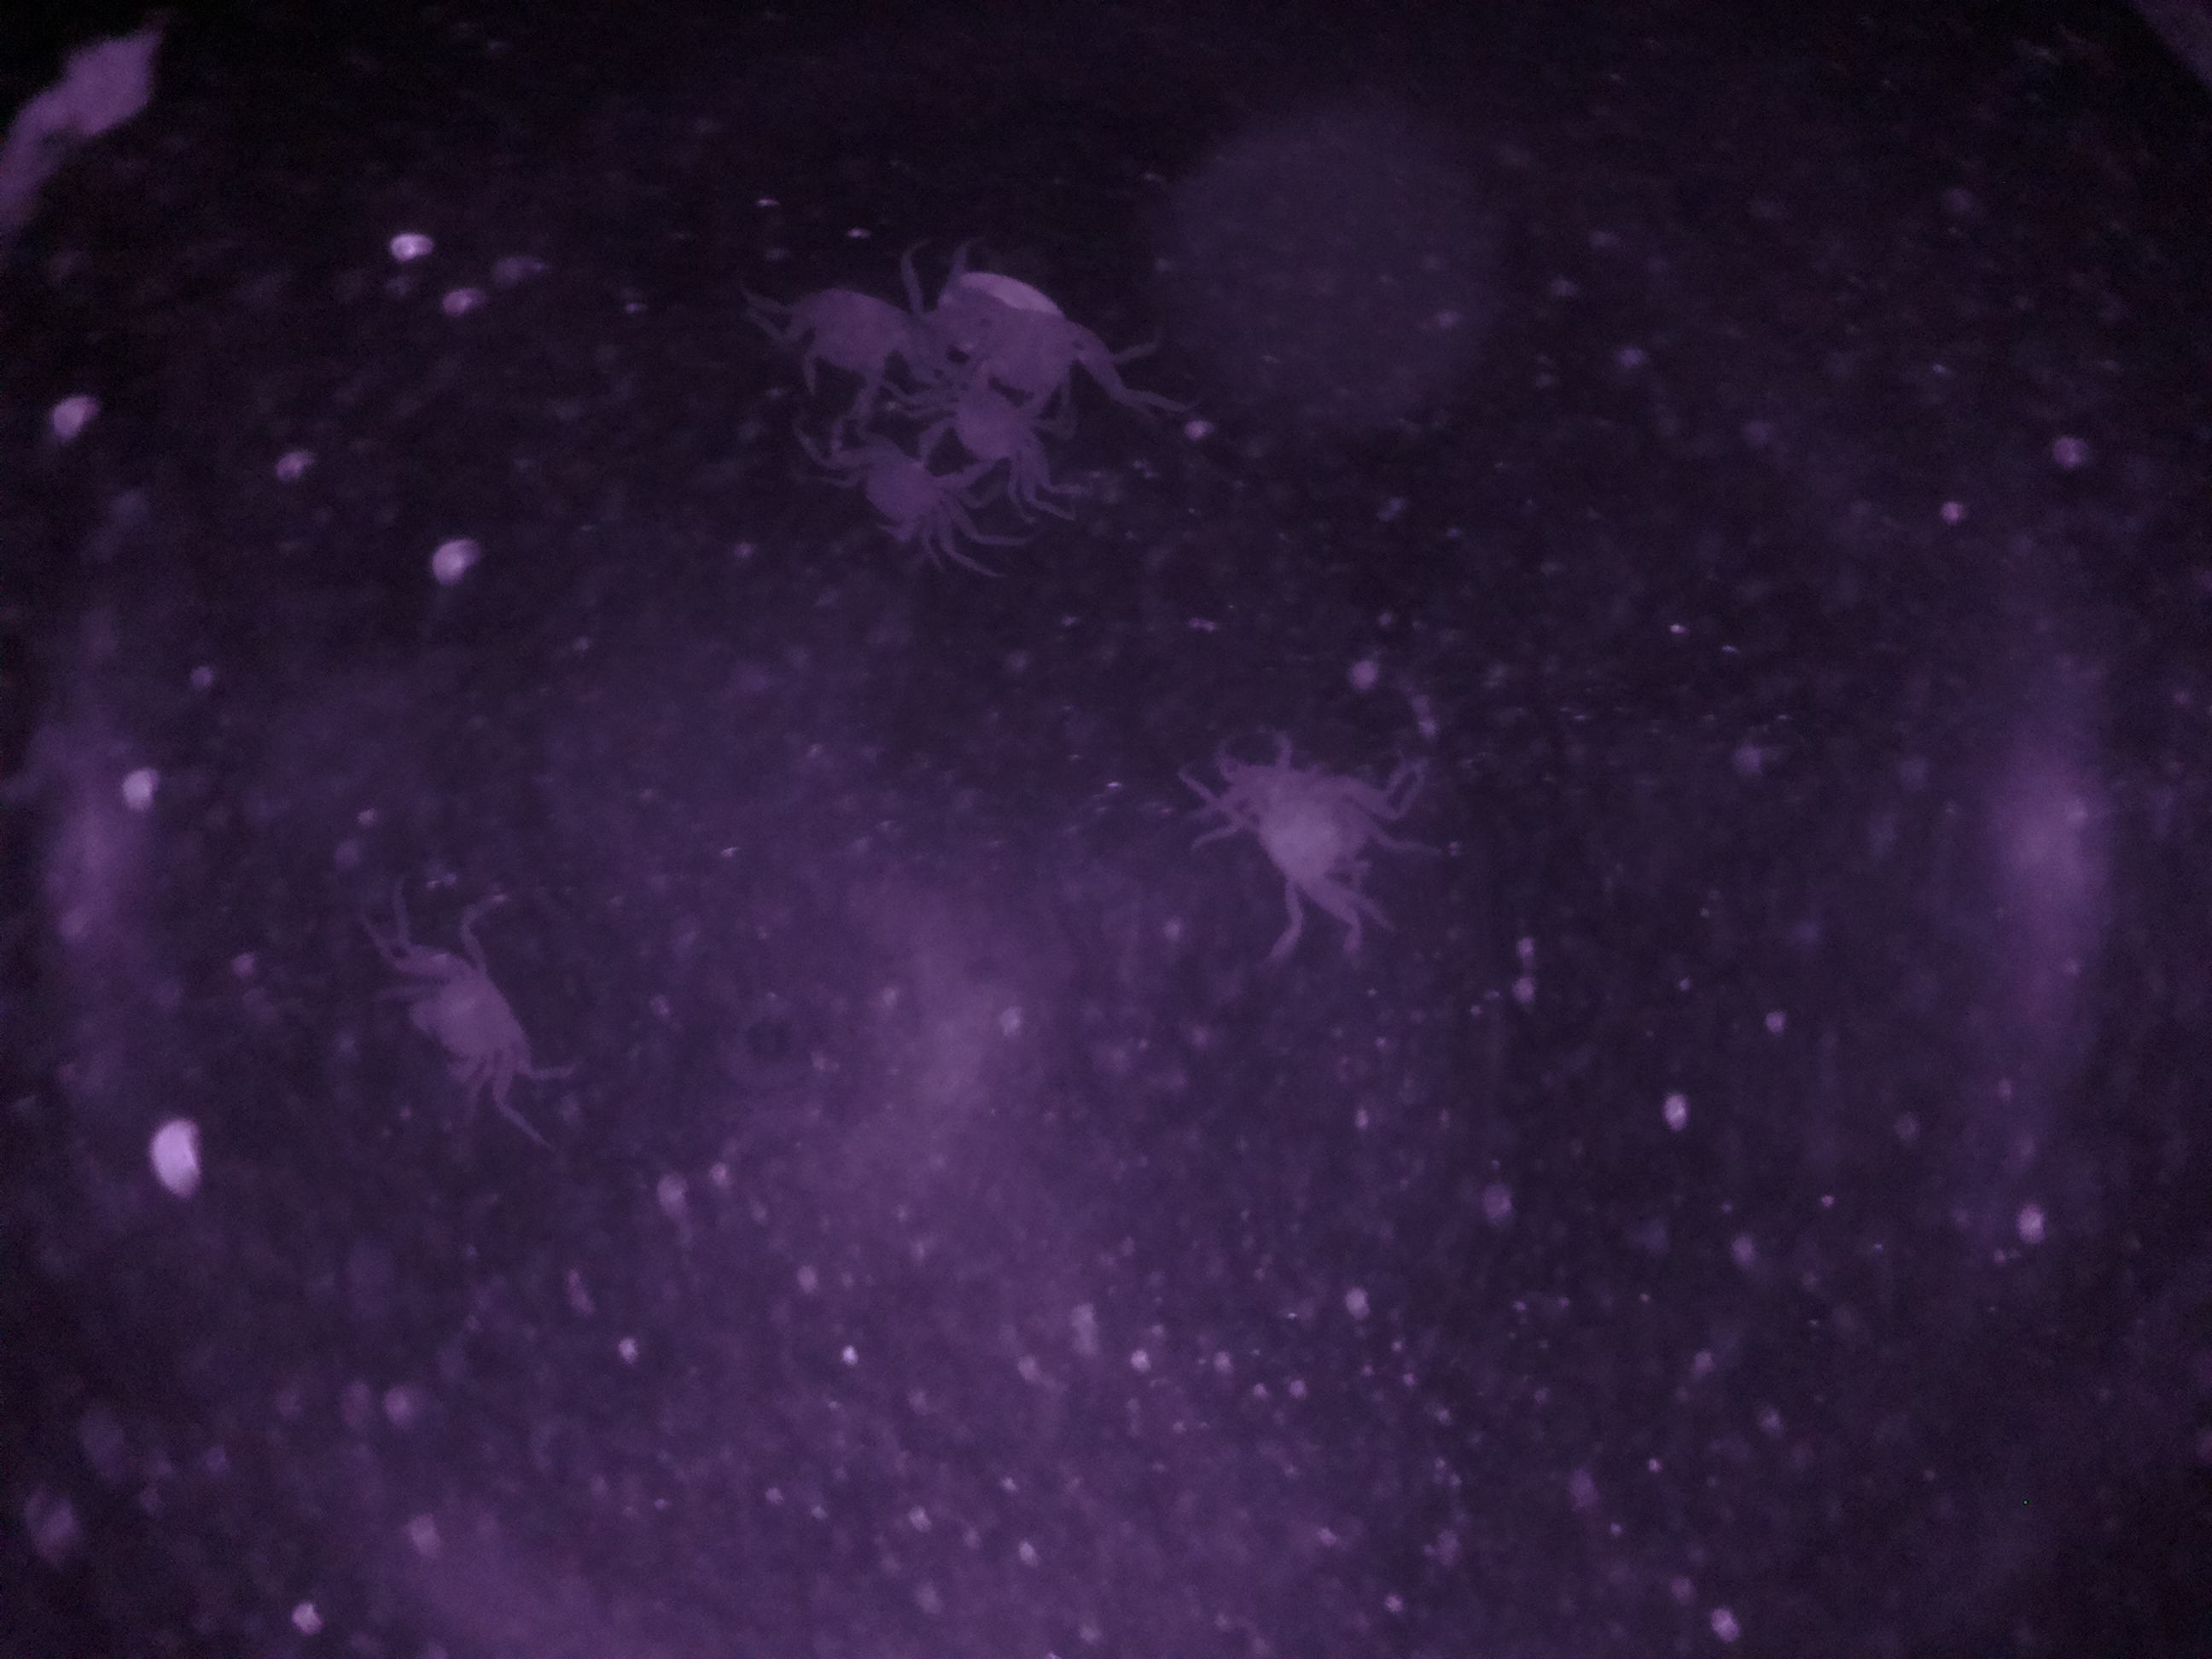Crab: (352, 892, 554, 1126)
